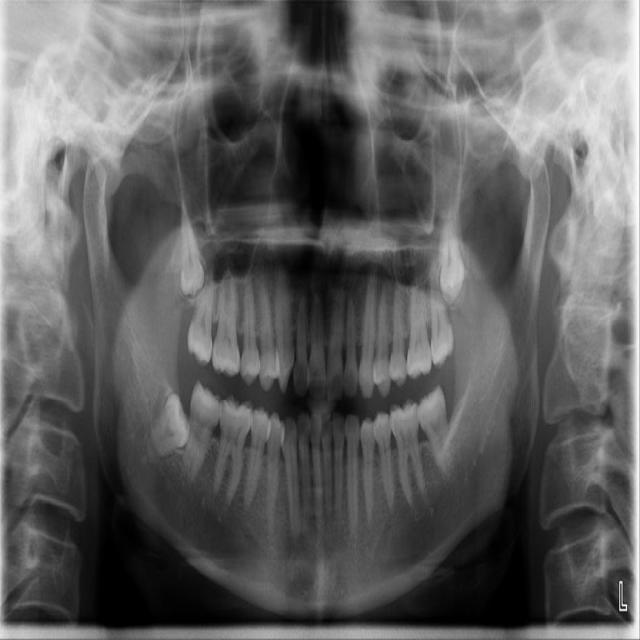impacted tooth: (143, 394, 191, 460), (180, 197, 204, 295), (440, 213, 462, 301)
